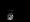person: (8, 8, 15, 20)
